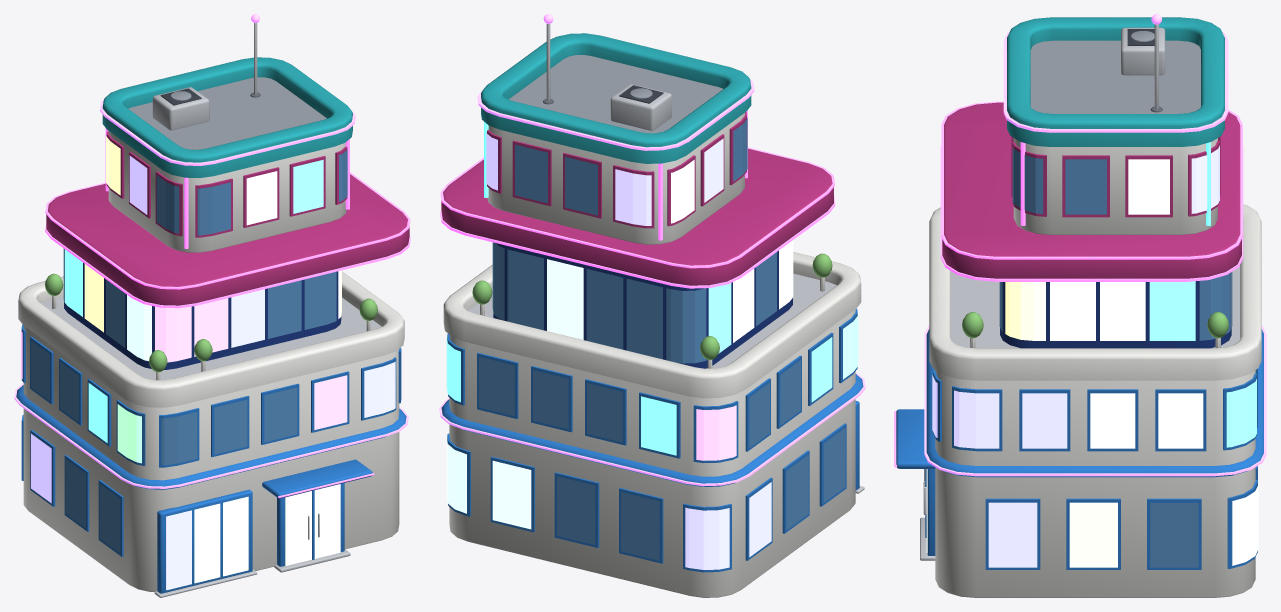
Rendered from predio_balanco_magenta.glb.
3 views of the same model, side by side, from view 1: azimuth 30°, elevation 25°; view 2: azimuth 150°, elevation 25°; view 3: azimuth 270°, elevation 25° (orthographic). The views are drawn at different scales.
Visible parts, largest first — view 1: predio_balanco_magenta; view 2: predio_balanco_magenta; view 3: predio_balanco_magenta.
Boxes of the visible parts, x1,y1,x2,y2 form: predio_balanco_magenta: (14, 14, 410, 597); predio_balanco_magenta: (439, 14, 865, 597); predio_balanco_magenta: (894, 14, 1266, 597).
Bounding box in the file's own units: 11.66 × 17.8 × 10.92.
Materials: 12 (1 with a texture image).
